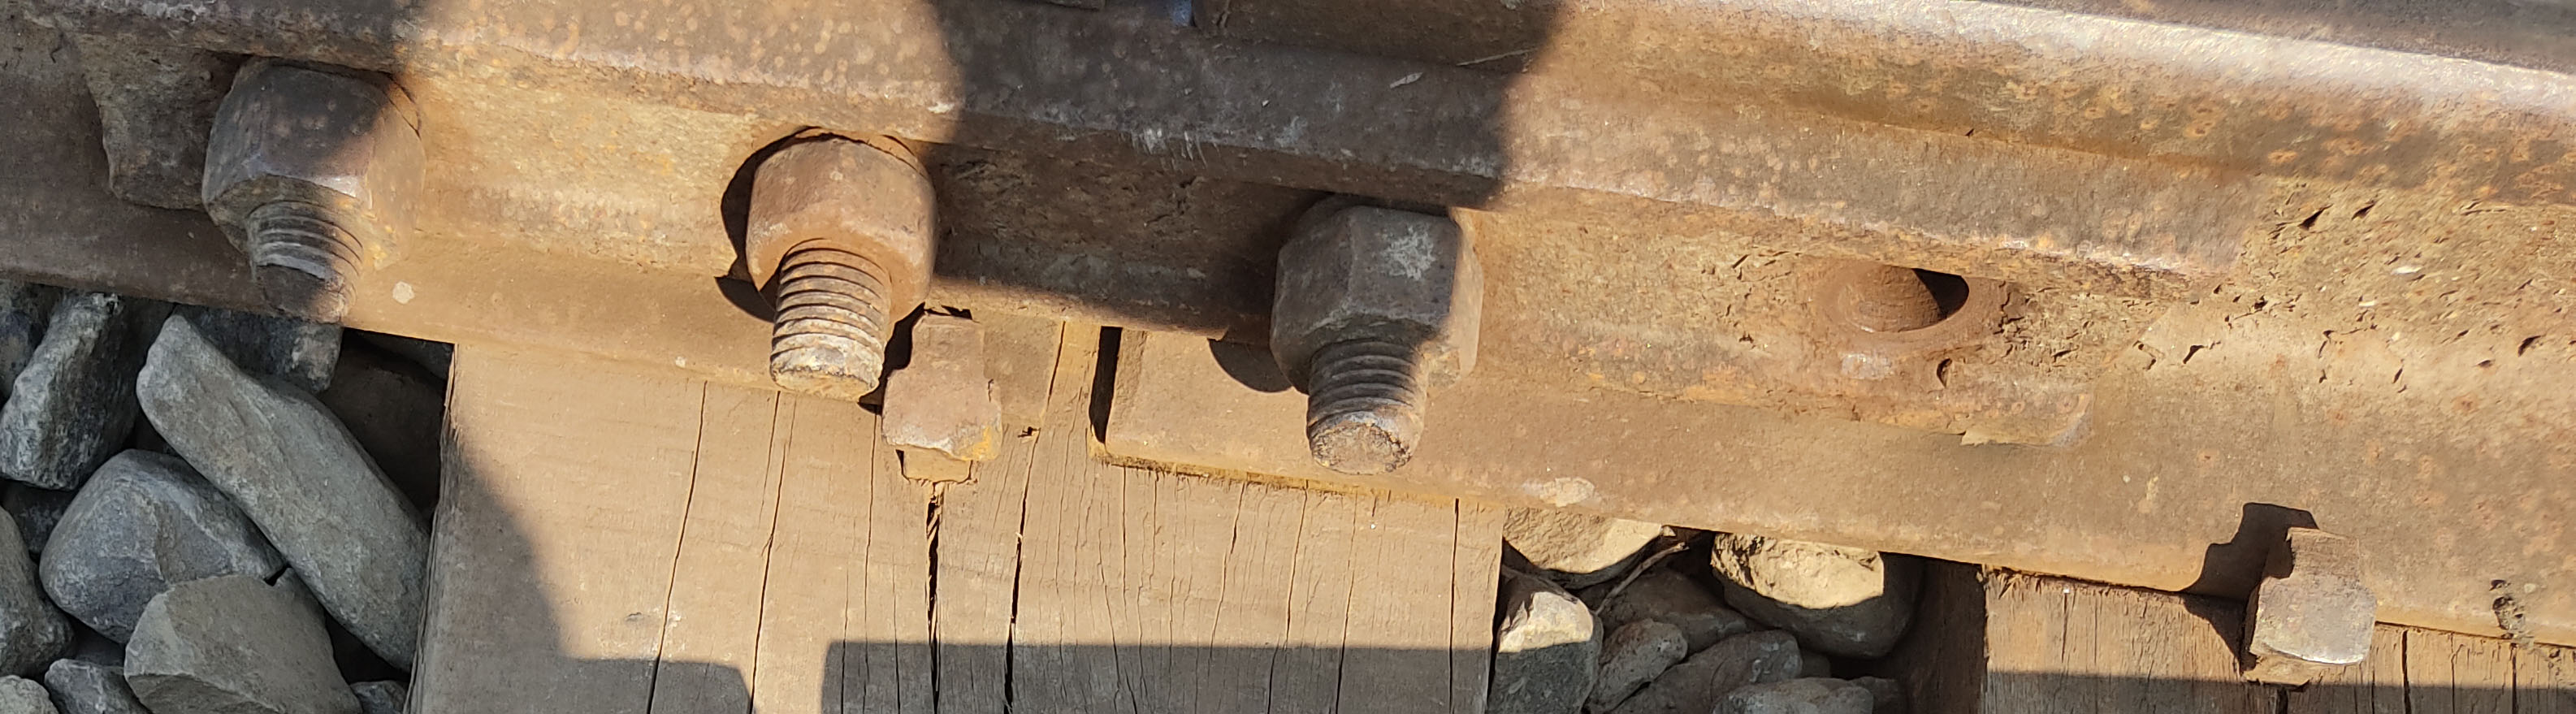error3: (2195, 176, 2543, 445)
